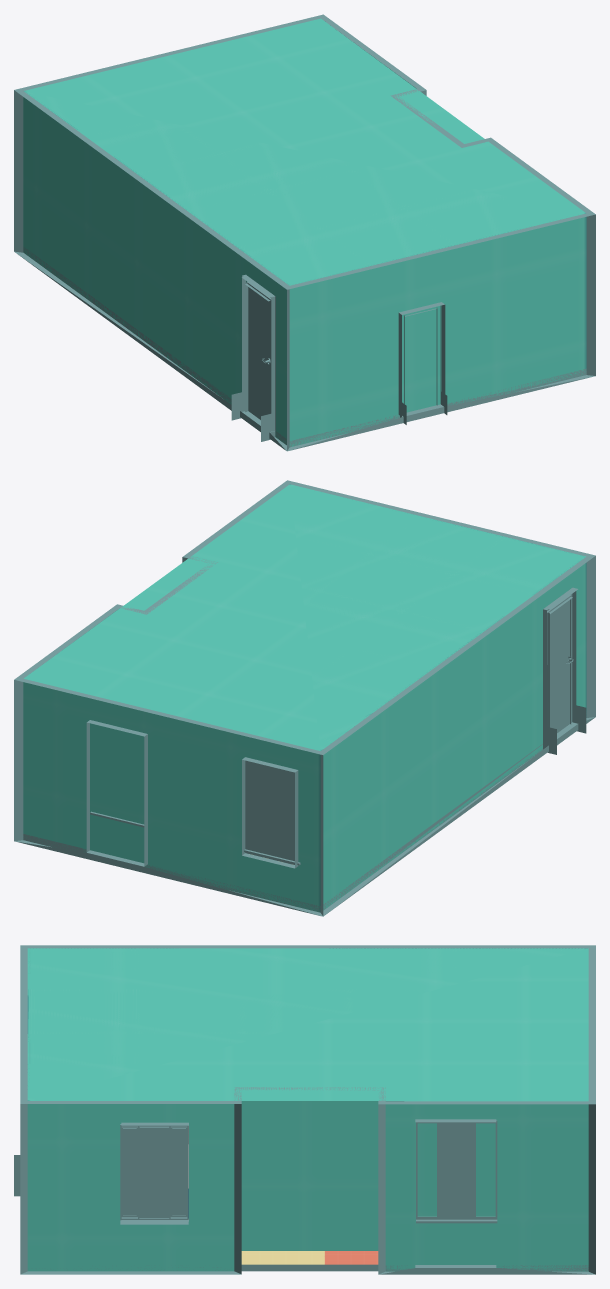
File: RoomLayout.fbx
3 views of the same model, one above another, from view 1: azimuth 30°, elevation 25°; view 2: azimuth 150°, elevation 25°; view 3: azimuth 270°, elevation 25° (orthographic). The views are drawn at different scales.
Parts seen in each view (by area): view 1: wall_0; view 2: wall_0; view 3: wall_0.
Part boxes in pixels (x1,y1,x2,y2): wall_0: [14, 14, 595, 451]; wall_0: [14, 480, 595, 916]; wall_0: [14, 945, 595, 1274].
Bounding box in the file's own units: 5.29 × 2.59 × 7.95.
Materials: 1 (1 with a texture image).
